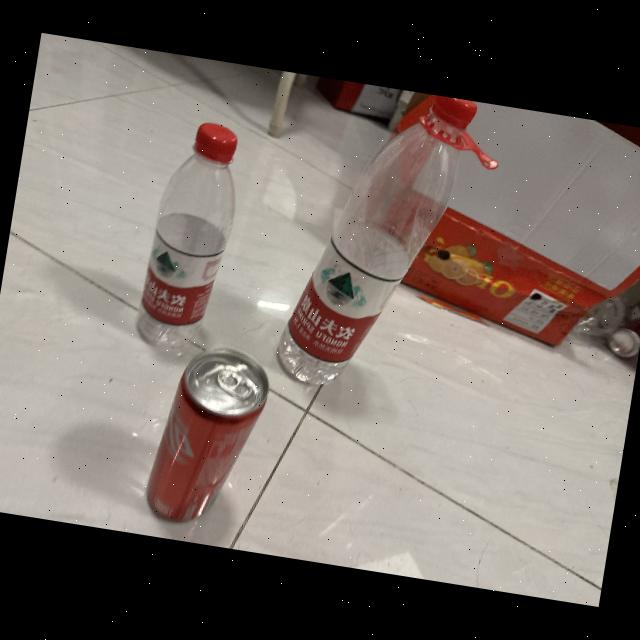Cola: (130, 330, 281, 542)
